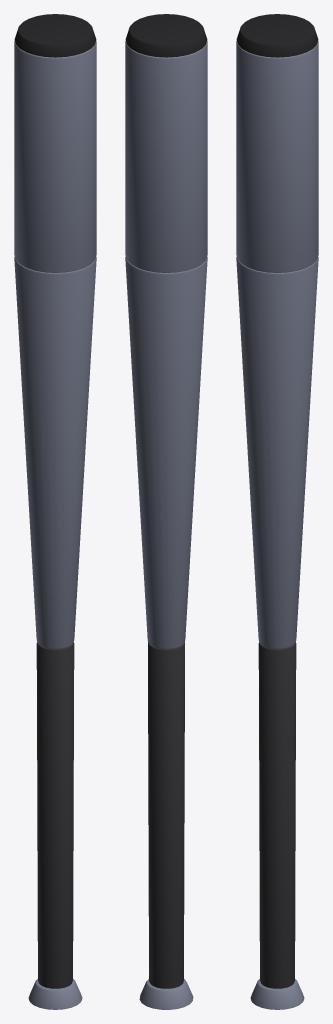
File: bat.glb
3 renders of one model, left to right at view 1: azimuth 90°, elevation 25°; view 2: azimuth 150°, elevation 25°; view 3: azimuth 270°, elevation 25°, orthographic.
Parts seen in each view (by area): view 1: bat_taper, bat_barrel, bat_handle, bat_cap, bat_knob; view 2: bat_taper, bat_barrel, bat_handle, bat_cap, bat_knob; view 3: bat_taper, bat_barrel, bat_handle, bat_cap, bat_knob.
Part boxes in pixels (left/top/right/bottom): bat_taper: left=14, top=256, right=96, bottom=648; bat_barrel: left=14, top=41, right=96, bottom=272; bat_handle: left=36, top=642, right=74, bottom=988; bat_cap: left=14, top=14, right=96, bottom=57; bat_knob: left=28, top=979, right=82, bottom=1009; bat_taper: left=125, top=257, right=207, bottom=648; bat_barrel: left=125, top=41, right=207, bottom=272; bat_handle: left=148, top=642, right=184, bottom=988; bat_cap: left=125, top=14, right=207, bottom=57; bat_knob: left=139, top=979, right=193, bottom=1009; bat_taper: left=236, top=256, right=318, bottom=648; bat_barrel: left=236, top=41, right=318, bottom=272; bat_handle: left=258, top=642, right=296, bottom=988; bat_cap: left=236, top=14, right=318, bottom=57; bat_knob: left=250, top=979, right=304, bottom=1009.
Bounding box in the file's own units: 0.066 × 0.855 × 0.066.
